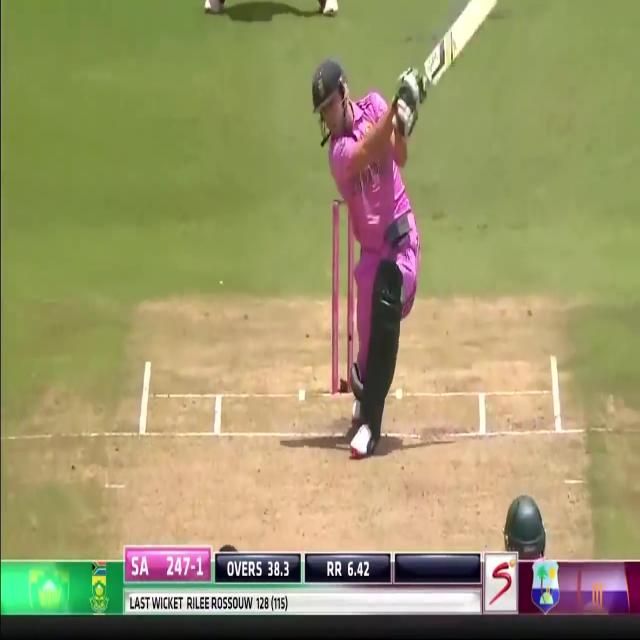Ball: (320, 20, 421, 460)
